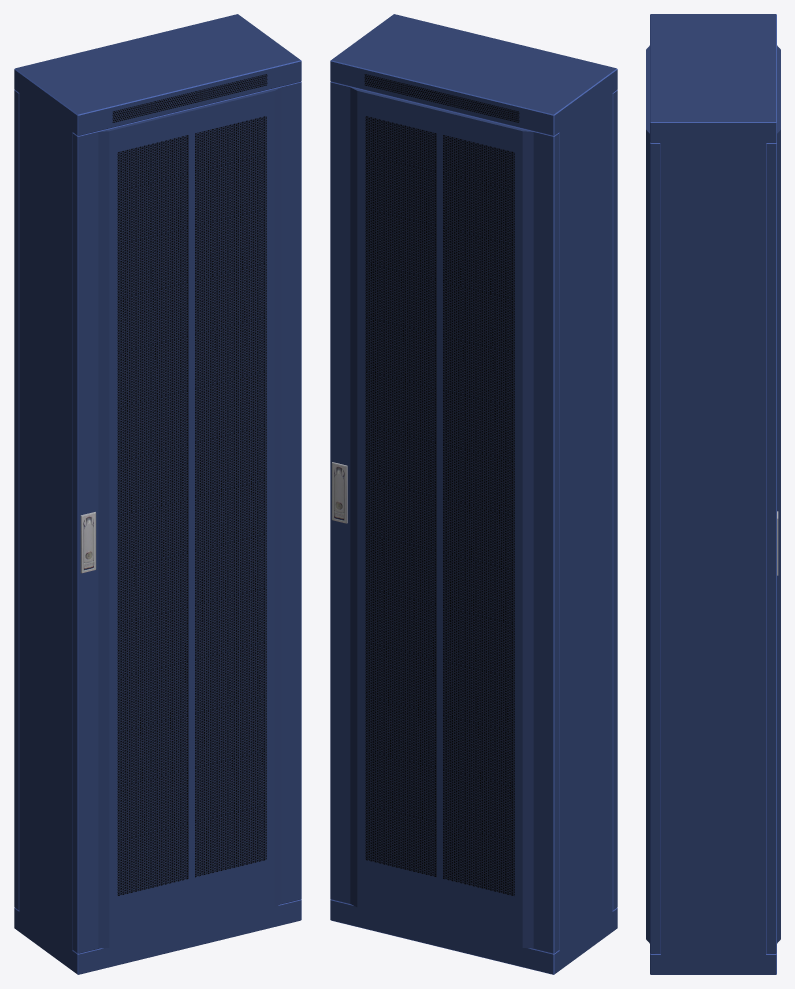
3 views of the same model, side by side, from view 1: azimuth 30°, elevation 25°; view 2: azimuth 150°, elevation 25°; view 3: azimuth 270°, elevation 25° (orthographic).
Visible parts, largest first — view 1: men_02, Lo-BODY_01, men_01; view 2: men_01, Lo-BODY_01, men_02; view 3: Lo-BODY_01, men_02, men_01.
Part boxes in pixels (x1,y1,x2,y2): men_02: (72, 81, 301, 953); Lo-BODY_01: (14, 14, 301, 974); men_01: (14, 90, 19, 910); men_01: (330, 81, 559, 953); Lo-BODY_01: (330, 14, 617, 974); men_02: (612, 90, 617, 910); Lo-BODY_01: (650, 14, 776, 974); men_02: (646, 45, 660, 953); men_01: (766, 45, 780, 953).
Size of the model in its own units: 0.6 by 2.2 by 0.3147.
Materials: 4 (4 with a texture image).
